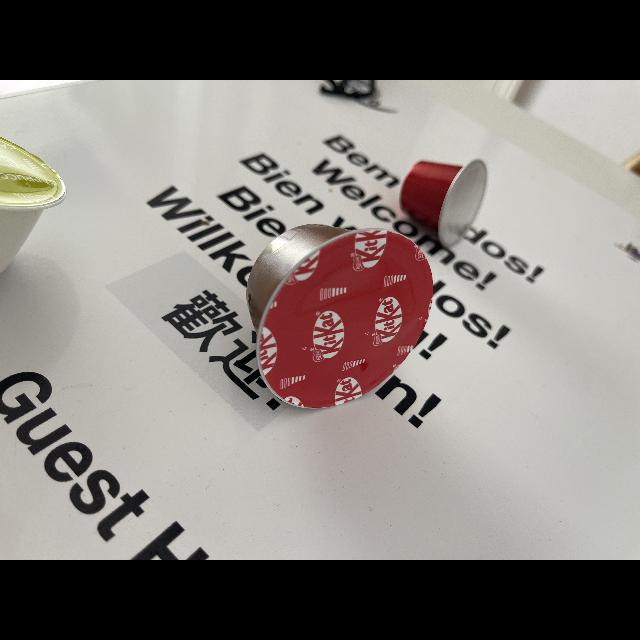intact_capsule: (240, 222, 442, 416)
